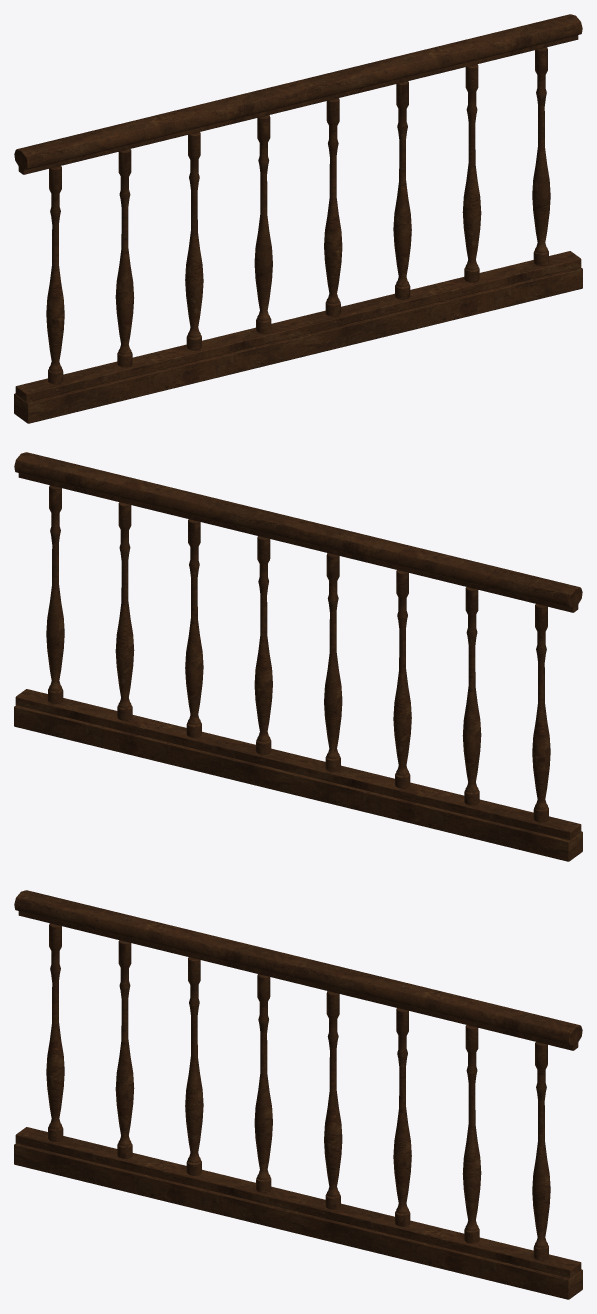
The model's file is Railing_Segment.gltf.
The picture shows the model from 3 angles, top to bottom: view 1: azimuth 30°, elevation 25°; view 2: azimuth 150°, elevation 25°; view 3: azimuth 330°, elevation 25°; orthographic projection.
Visible parts, largest first — view 1: Railing_Segment_Body; view 2: Railing_Segment_Body; view 3: Railing_Segment_Body.
Boxes of the visible parts, <box> form: Railing_Segment_Body: <box>14,14,582,423</box>; Railing_Segment_Body: <box>14,452,582,861</box>; Railing_Segment_Body: <box>14,890,582,1299</box>.
Size of what is drawn, in the model's own units: 2 by 0.923 by 0.09.
1 material, 1 textured.
